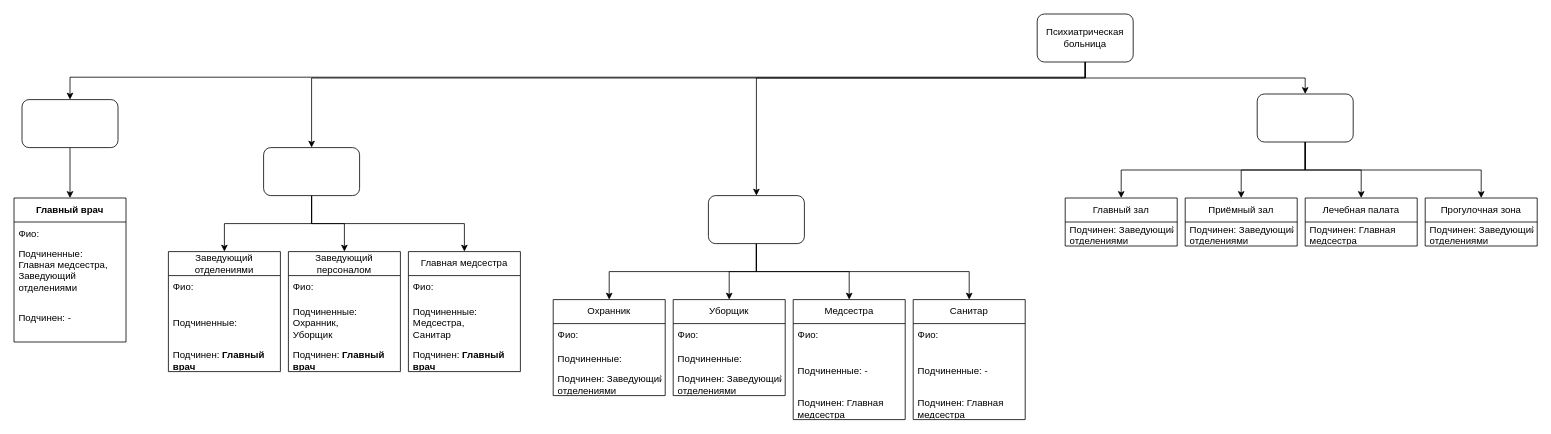
This 1551x434 diagram has some shape labels left out. The shapes that lost their labels are listed below. From the top down, each one's centre as x and y in pixels, then its label:
At (69,123): "Глава руководства".
At (1304,117): "Помещения".
At (311,171): "Руководство".
At (756,219): "Штат".
